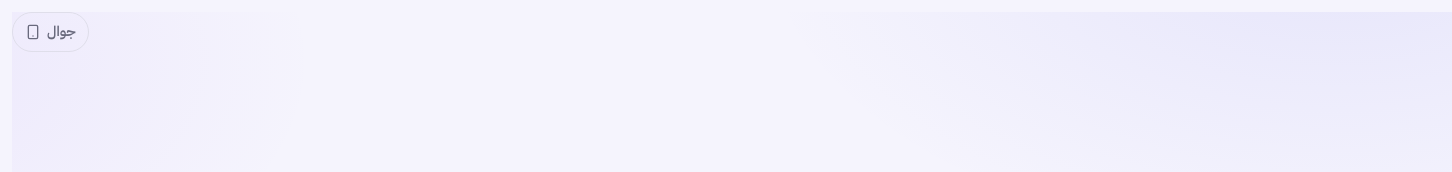
Test case: top-up buttons › tapping the network sells NOTHING — it only asks for the amount
Click the button "جوال": point(50, 32) [12,12,89,52]
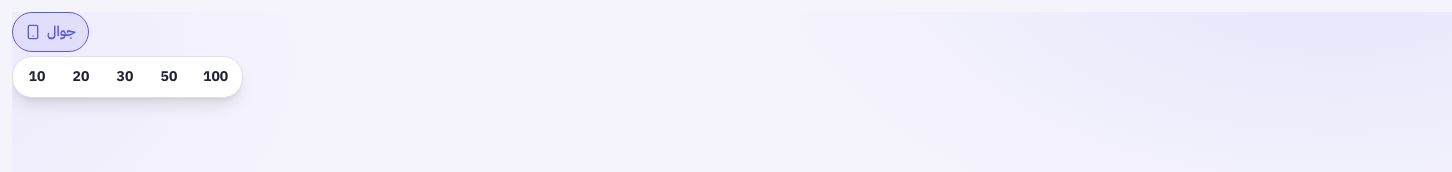
expect the menu item "50" is shown: met, box [149,61,189,93]
